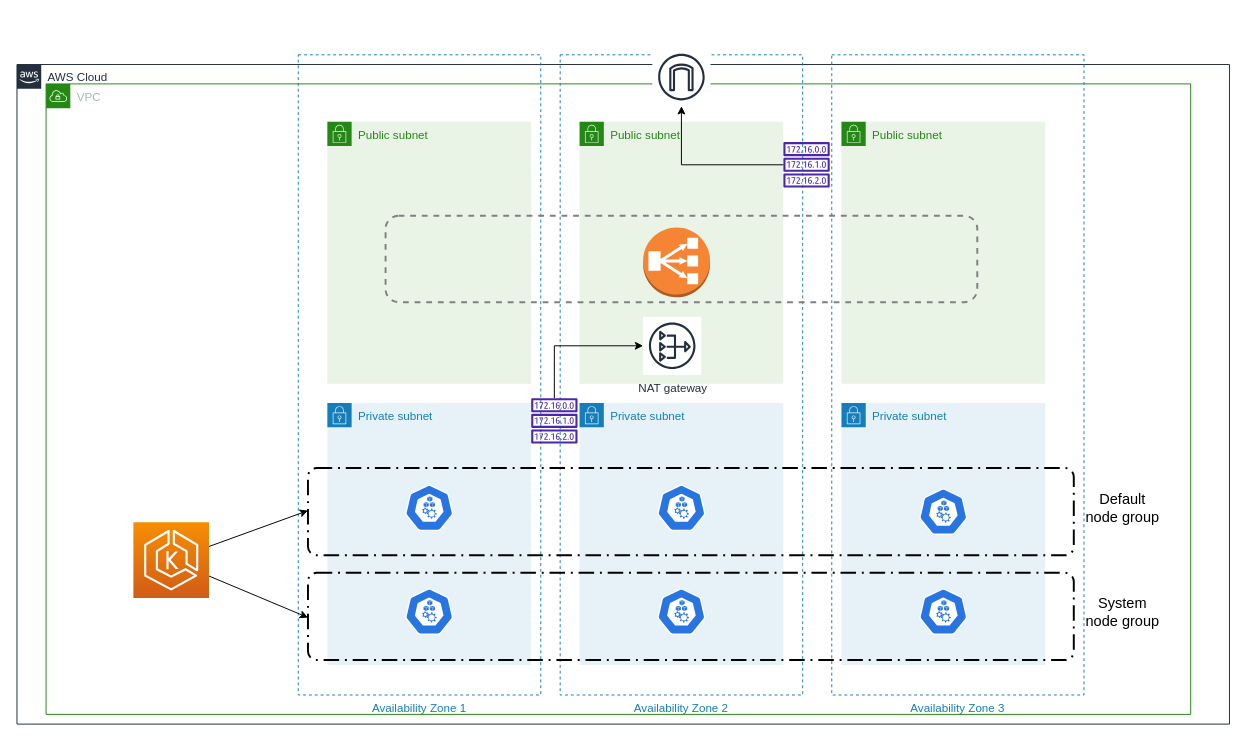
Image size: 1246x741. Some labels were removed from this diagram. The shapes that lost their labels are listed below. From the top down, each one's centre as x and y in pixels, then its label:
pixel 681 76: Internet gateway
pixel 806 164: Public route table
pixel 676 261: Kubernetes ELB
pixel 554 420: Private route table
pixel 170 559: EKS
